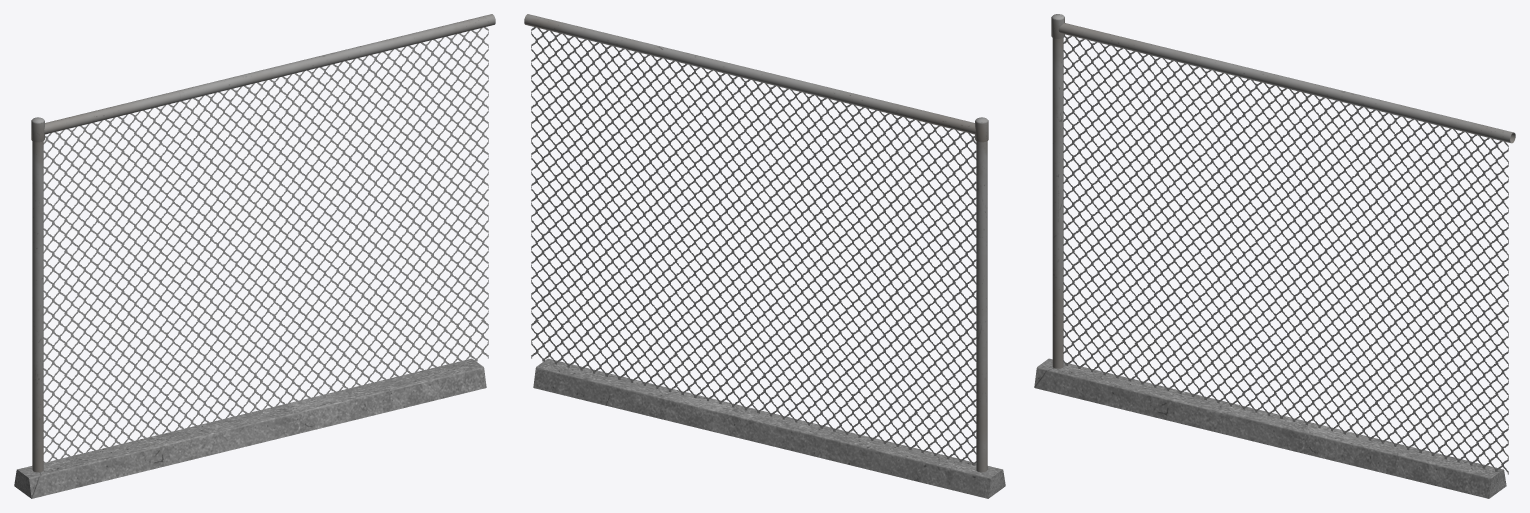
Rendered from chainFence.fbx.
3 renders of one model, left to right at view 1: azimuth 30°, elevation 25°; view 2: azimuth 150°, elevation 25°; view 3: azimuth 330°, elevation 25°, orthographic.
Visible parts, largest first — view 1: Curb_Straight; view 2: Curb_Straight; view 3: Curb_Straight.
Part boxes in pixels (x1,y1,x2,y2): Curb_Straight: (14,14,495,498); Curb_Straight: (524,14,1005,498); Curb_Straight: (1034,14,1515,498).
Size of the model in its own units: 310 by 233 by 20.
